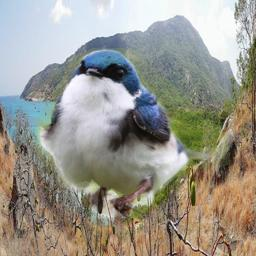Swallow: (36, 48, 230, 218)
